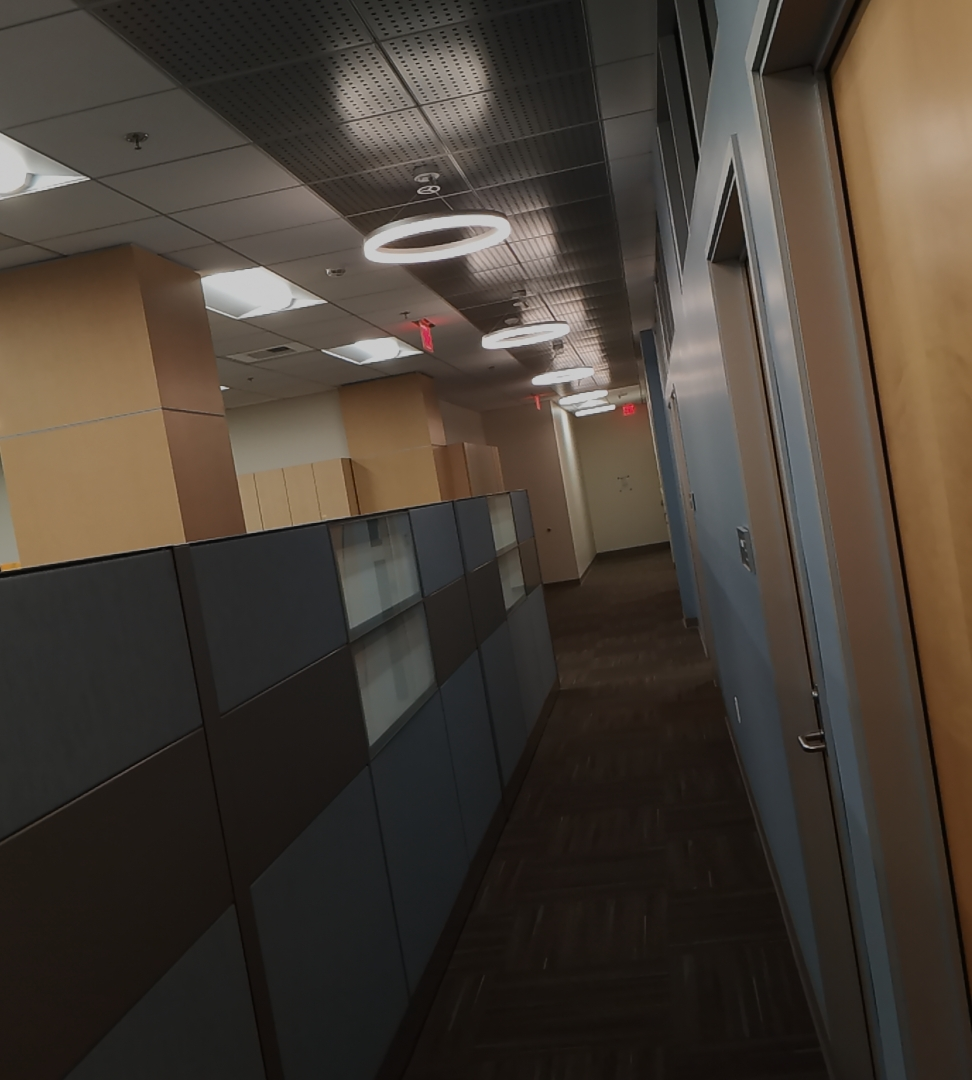emergency_exit: (620, 401, 638, 418)
